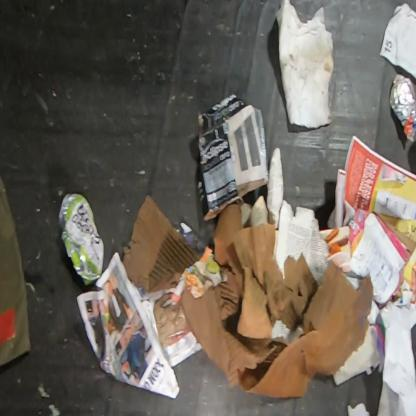cardboard: (231, 223, 320, 355), (198, 93, 271, 221), (121, 195, 202, 295)
metal: (56, 193, 104, 288), (388, 73, 416, 143)
soft_plastic: (0, 174, 32, 366)
